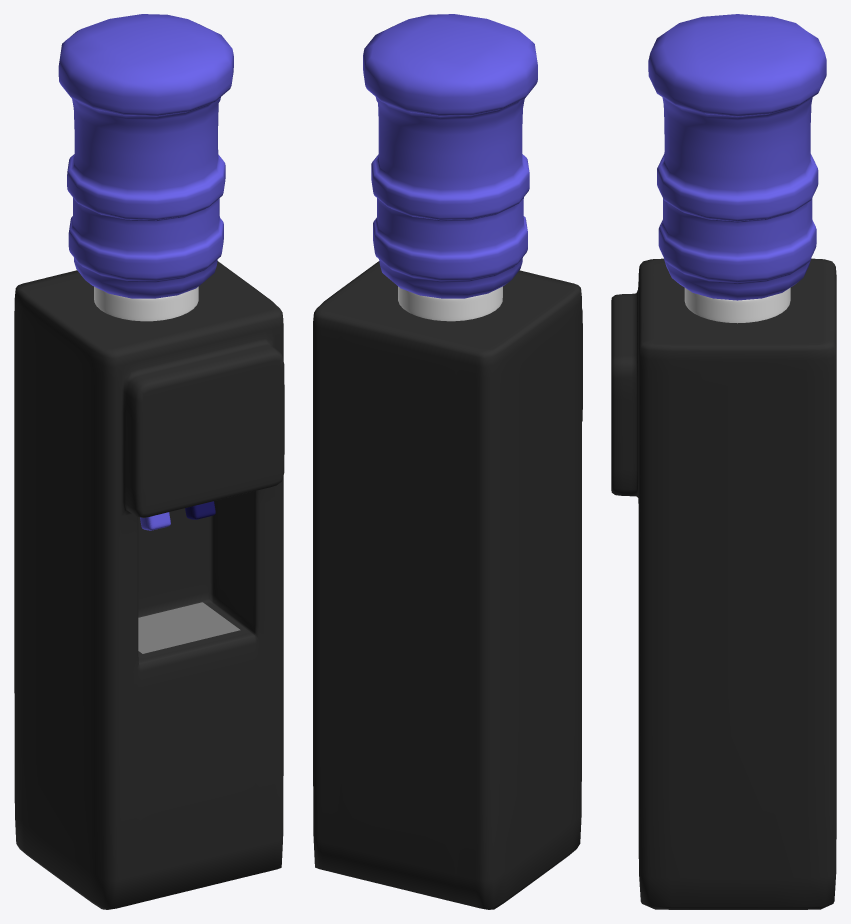
Rendered from WaterDispenser.glb.
3 views of the same model, side by side, from view 1: azimuth 30°, elevation 25°; view 2: azimuth 150°, elevation 25°; view 3: azimuth 270°, elevation 25° (orthographic).
Parts seen in each view (by area): view 1: Plane, Circle, Plane.002, Circle.001, Plane.001; view 2: Plane, Circle, Circle.001; view 3: Plane, Circle, Circle.001.
Part boxes in pixels (x1=…): Plane: x1=14, y1=261, x2=284, y2=909; Circle: x1=58, y1=14, x2=233, y2=298; Plane.002: x1=138, y1=602, x2=240, y2=653; Circle.001: x1=94, y1=286, x2=198, y2=321; Plane.001: x1=140, y1=501, x2=215, y2=530; Plane: x1=313, y1=261, x2=582, y2=909; Circle: x1=363, y1=14, x2=537, y2=298; Circle.001: x1=398, y1=286, x2=502, y2=321; Plane: x1=611, y1=258, x2=836, y2=909; Circle: x1=648, y1=14, x2=826, y2=300; Circle.001: x1=684, y1=287, x2=790, y2=323.
Bounding box in the file's own units: 0.4054 × 1.72 × 0.4241.
